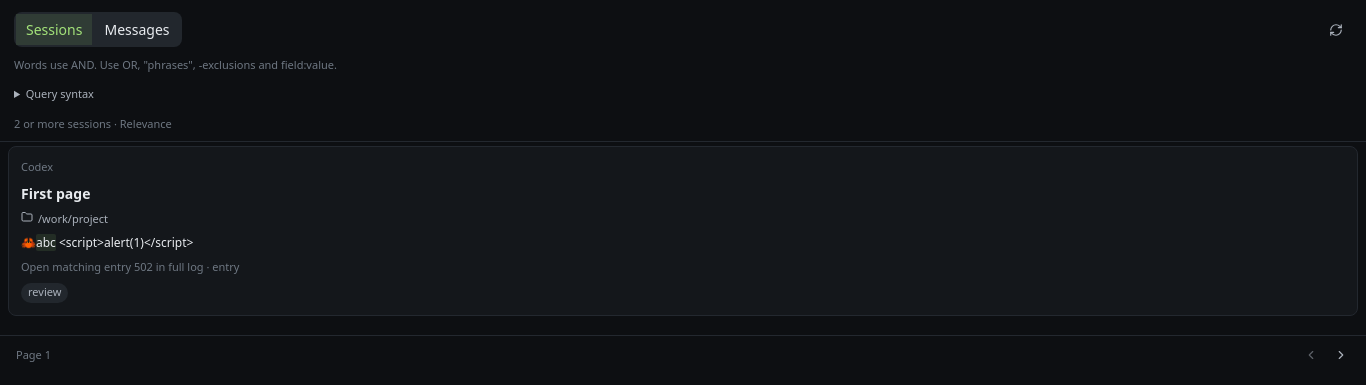
Test: cursor pages retain the identical absolute cutoff and support previous pages
Expected: the button that starts with "Codex" is shown, x1=8 y1=146 x2=1358 y2=316
Click the button named "Next developer results" at coordinates (1341, 355), box x1=1328 y1=342 x2=1354 y2=368
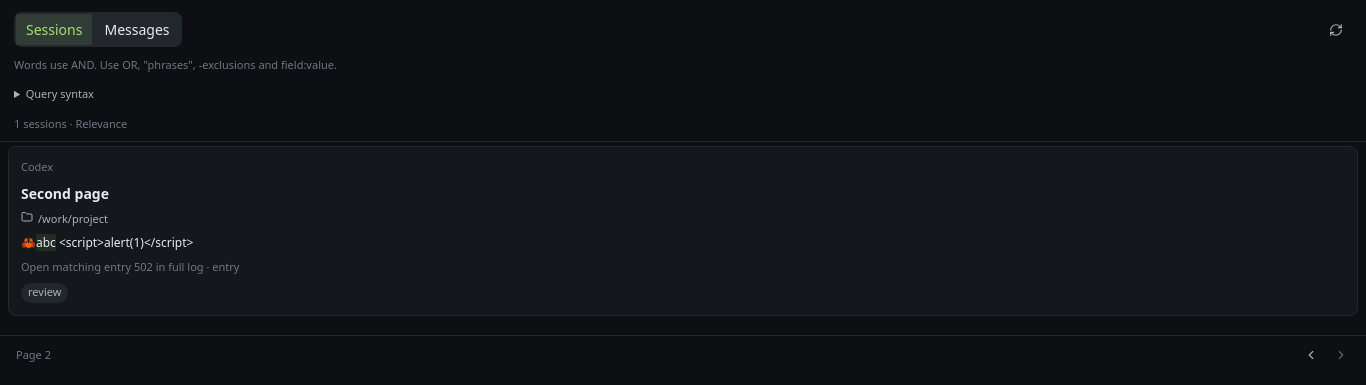
Now the button that starts with "Codex" is shown, box x1=8 y1=146 x2=1358 y2=316
Now the text "Page 2" is shown, box x1=16 y1=347 x2=51 y2=363
Click the button named "Previous developer results" at coordinates (1311, 355), box x1=1298 y1=342 x2=1324 y2=368
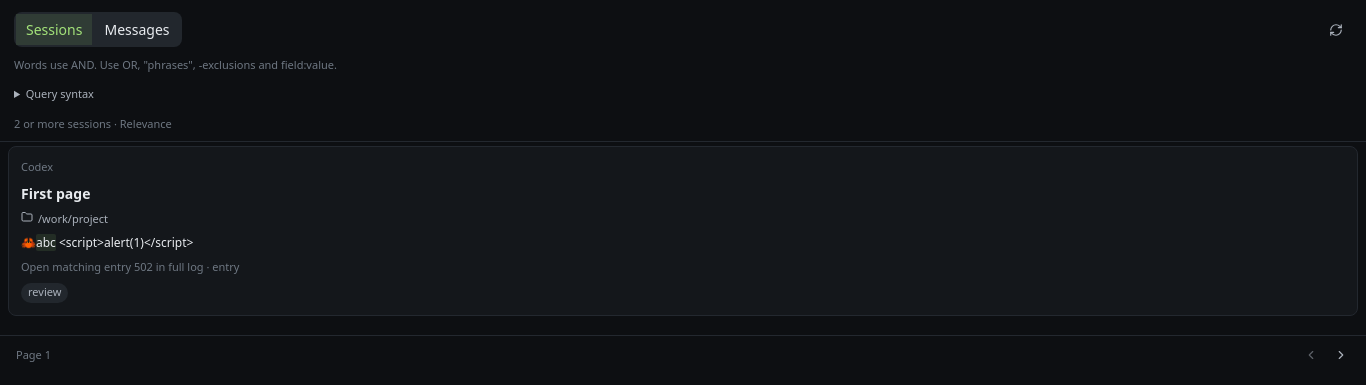
Now the button that starts with "Codex" is shown, box x1=8 y1=146 x2=1358 y2=316
